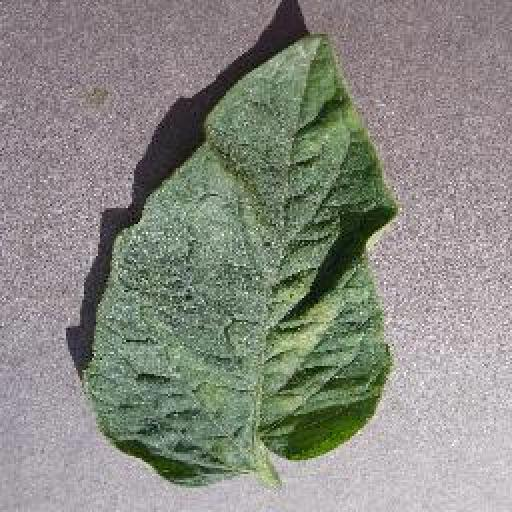disease_tomato: (84, 34, 400, 486)
